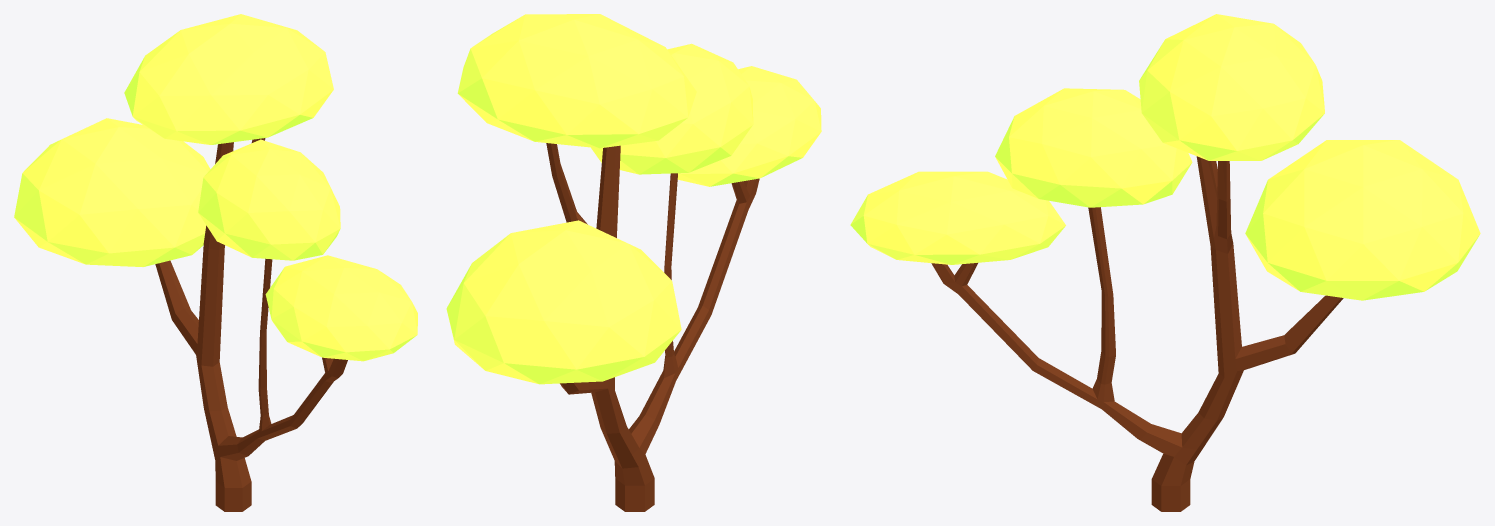
Rendered from maple4.glb.
3 views of the same model, side by side, from view 1: azimuth 30°, elevation 25°; view 2: azimuth 150°, elevation 25°; view 3: azimuth 270°, elevation 25° (orthographic). The views are drawn at different scales.
Parts seen in each view (by area): view 1: Tree4; view 2: Tree4; view 3: Tree4.
Part boxes in pixels (<box>): Tree4: <box>14,14,417,511</box>; Tree4: <box>446,14,821,511</box>; Tree4: <box>850,14,1480,511</box>.
Bounding box in the file's own units: 377 × 685 × 796.
